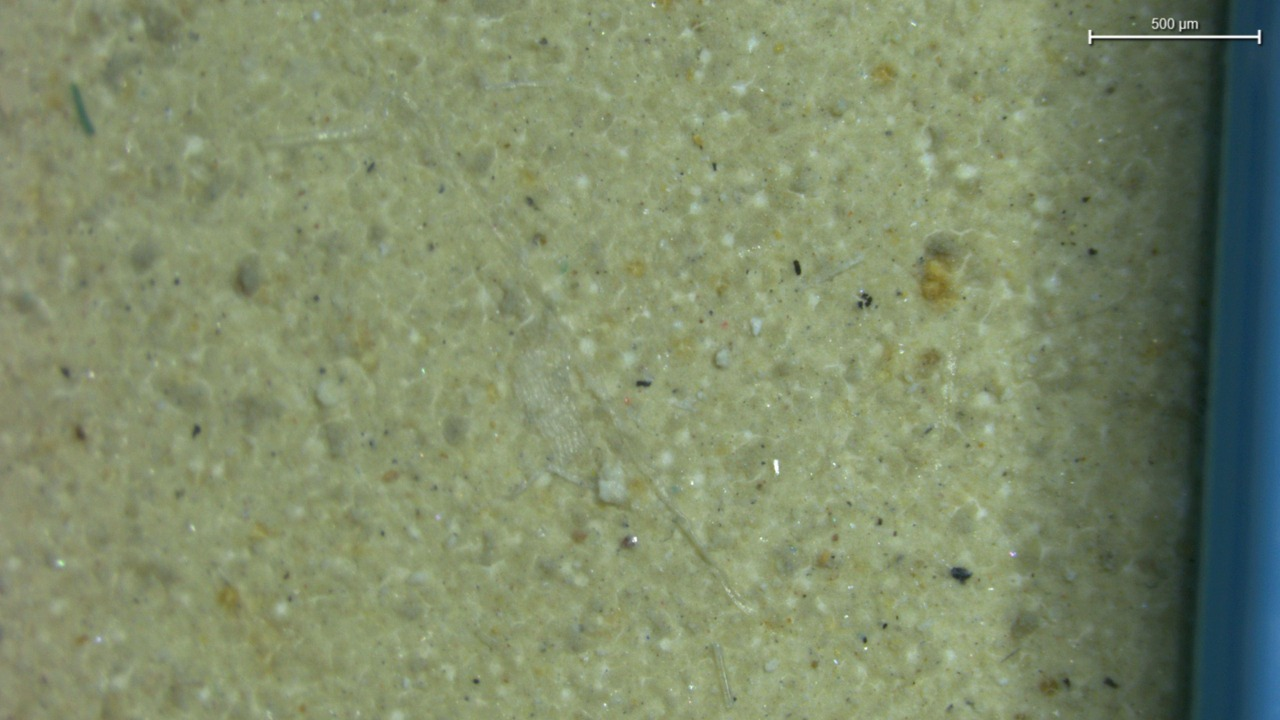microplastic_fragment: (598, 462, 627, 505), (714, 346, 731, 368)
